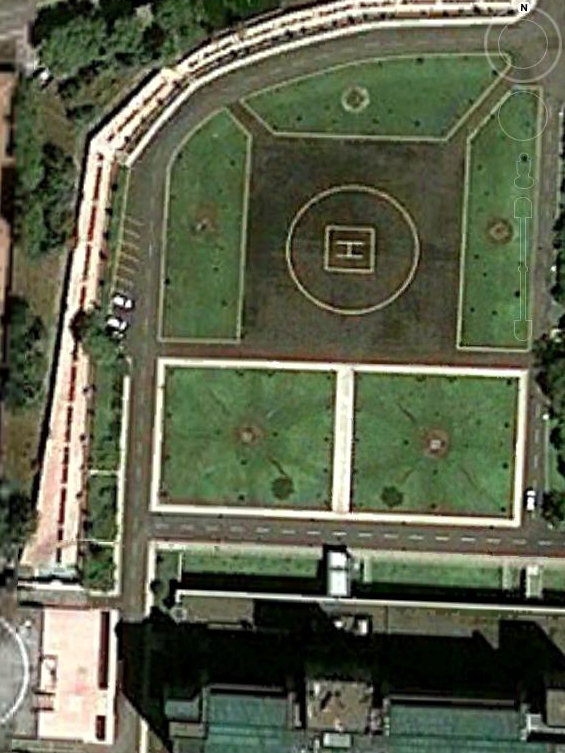heliport: (332, 235, 367, 262)
